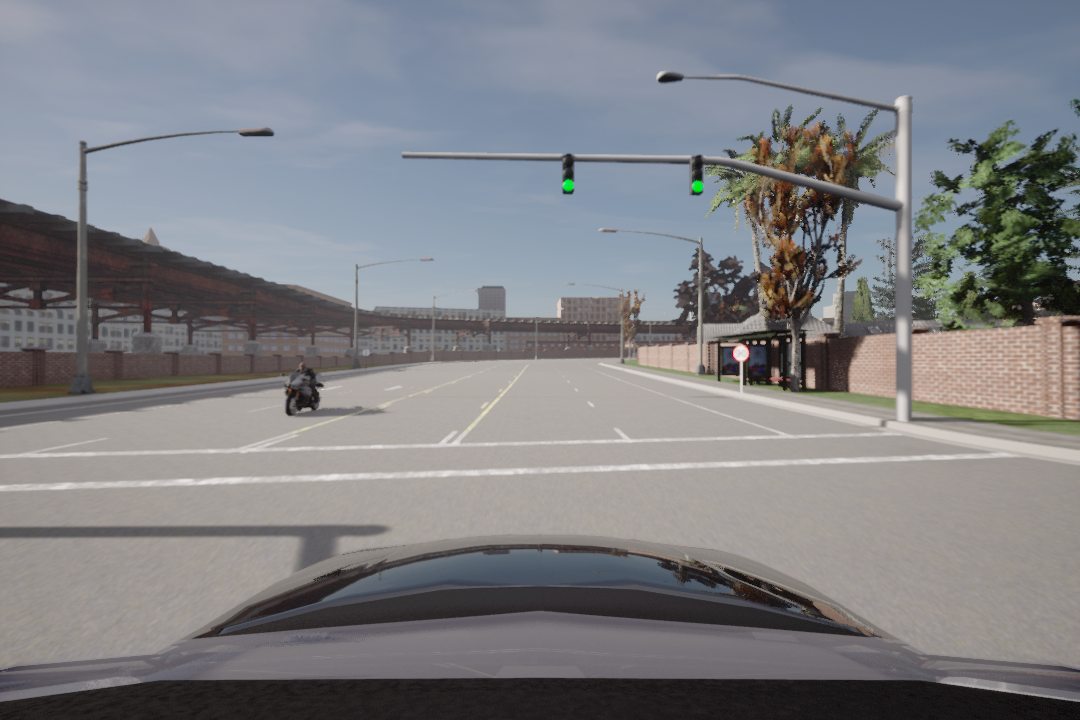TrafficLight: (688, 156, 707, 203), (558, 154, 577, 194)
